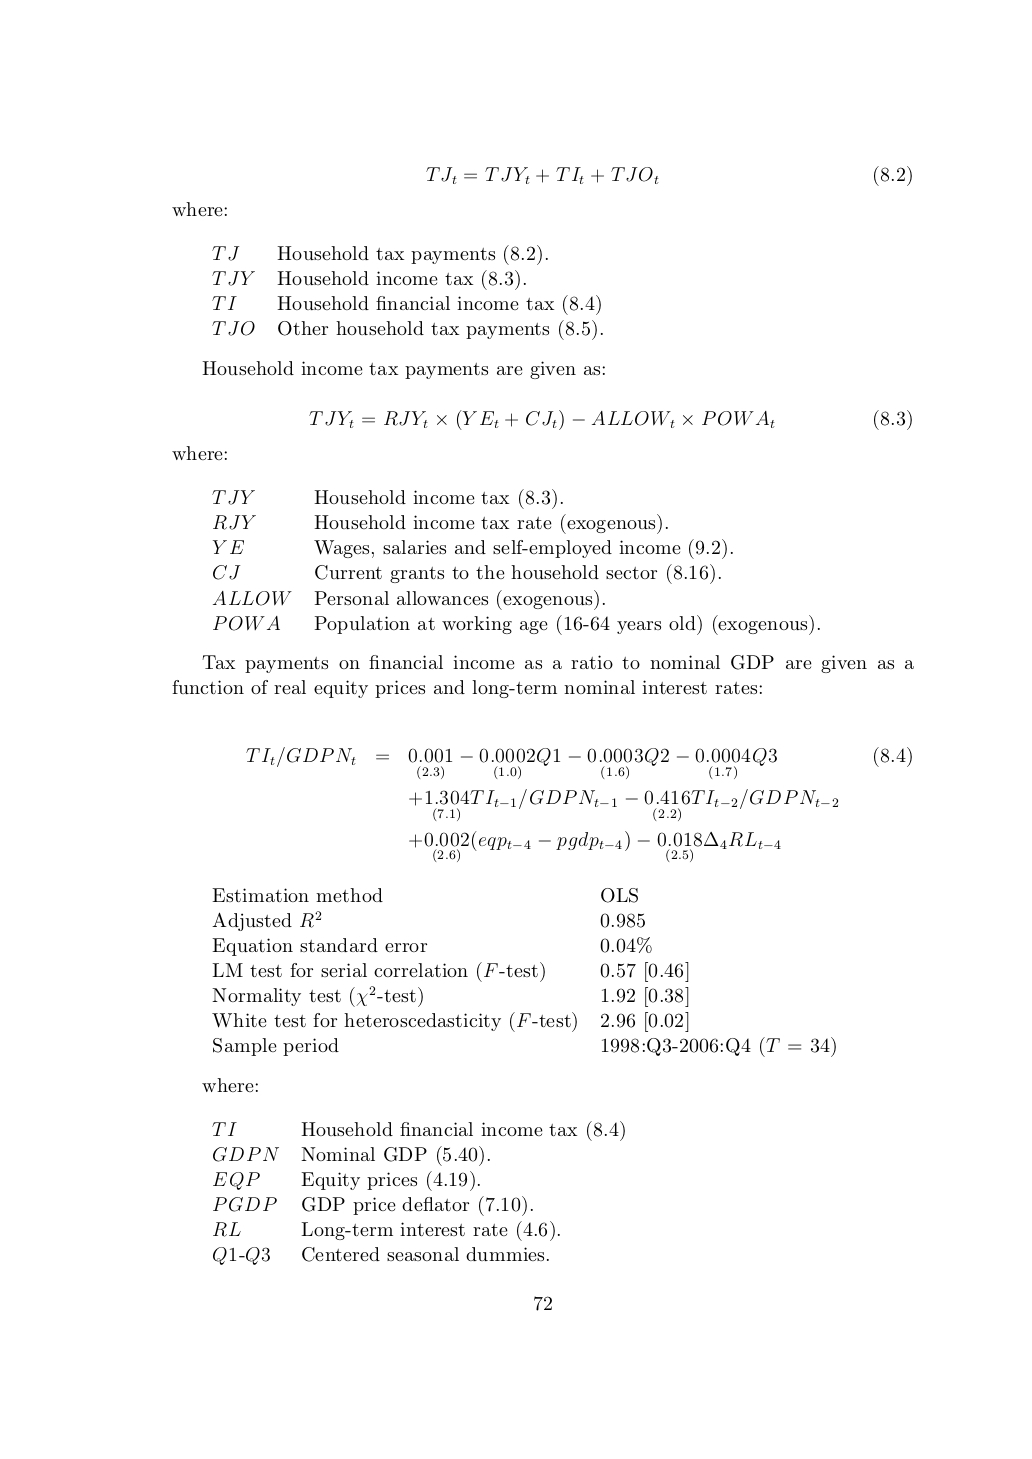Table: (212, 887, 835, 1056)
formula: (246, 745, 911, 780), (409, 788, 838, 822), (309, 409, 911, 430), (409, 831, 780, 863), (426, 165, 911, 186)
